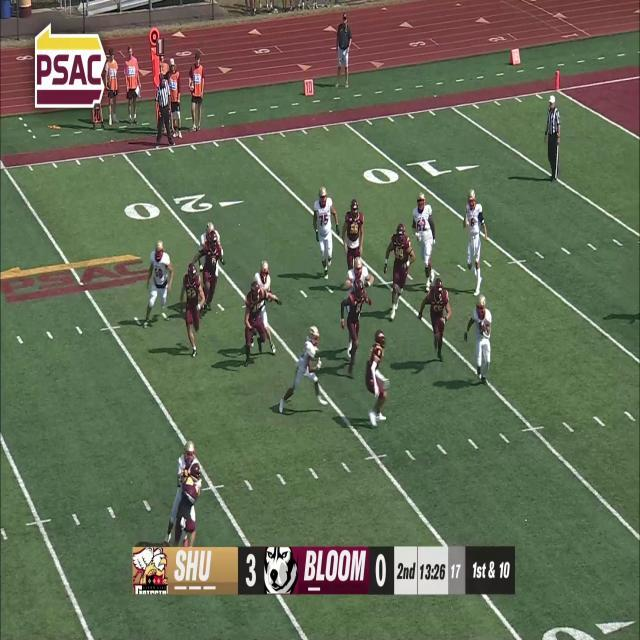football: (480, 320, 488, 334)
